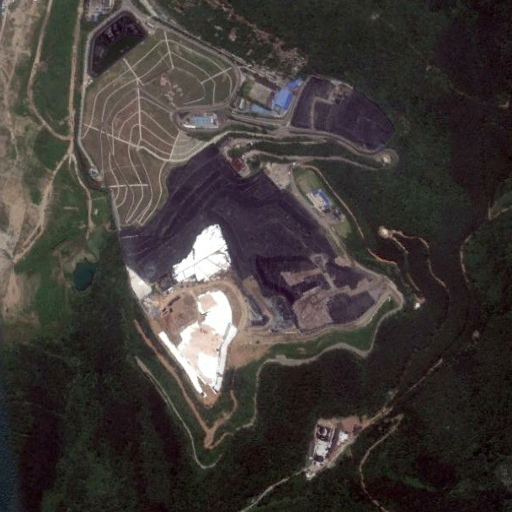lf: (117, 148, 390, 399), (286, 73, 394, 152)
